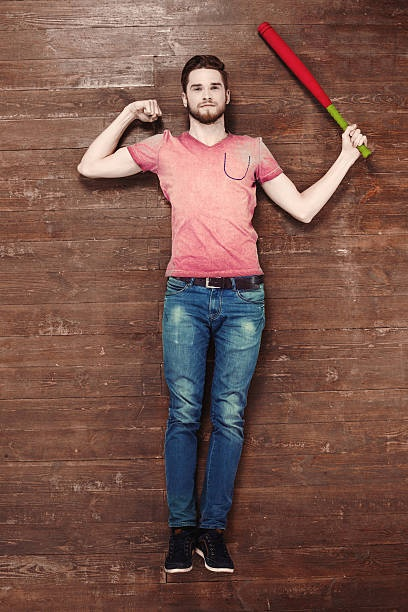bita: (256, 20, 369, 177)
